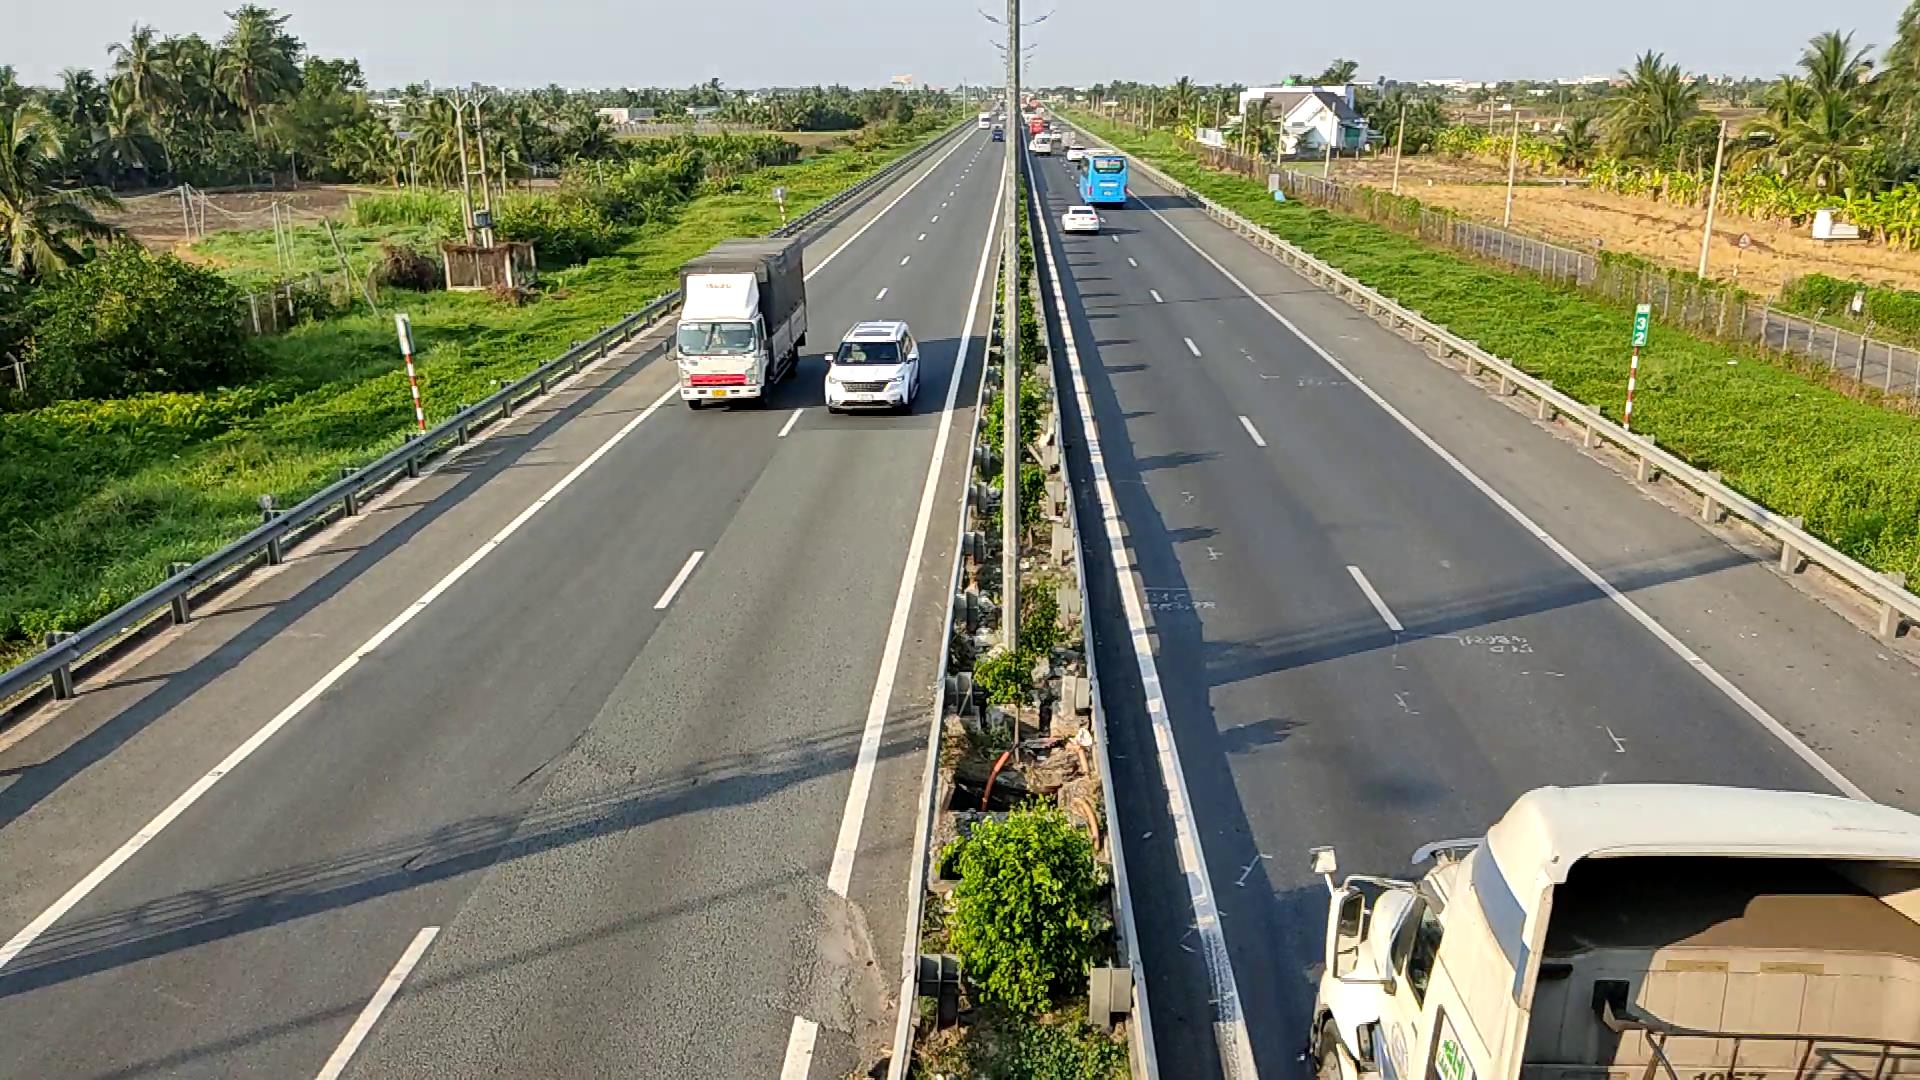car: (822, 318, 920, 415), (1060, 204, 1100, 233)
truck: (1302, 779, 1917, 1069), (673, 233, 808, 409)
